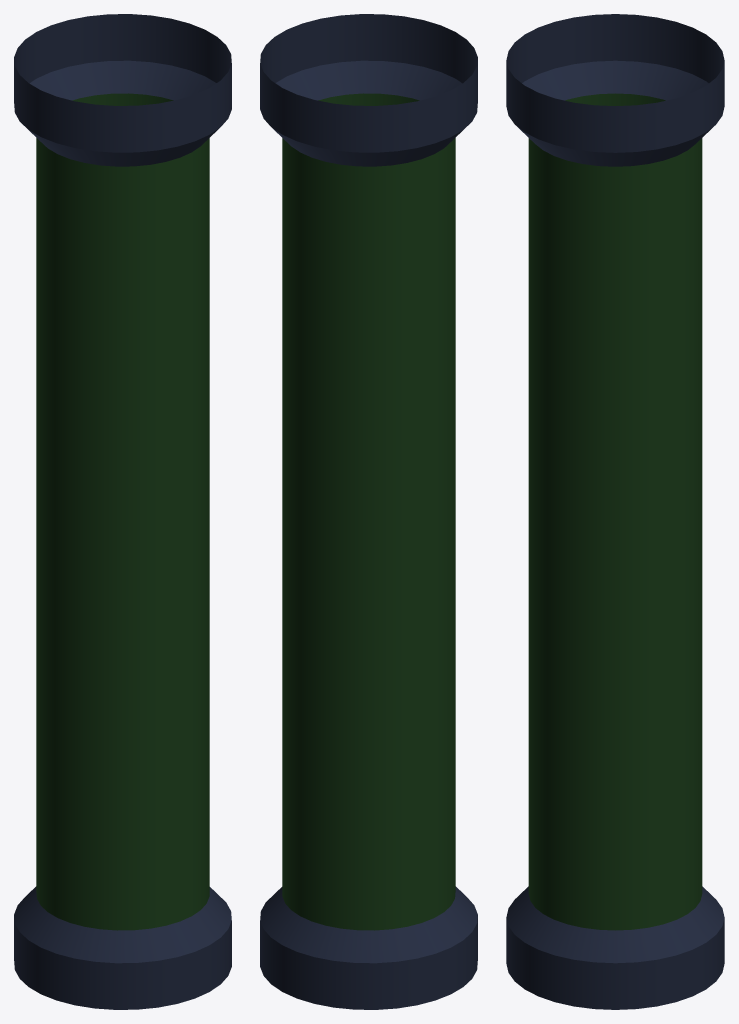
File: Column.fbx
3 renders of one model, left to right at view 1: azimuth 30°, elevation 25°; view 2: azimuth 150°, elevation 25°; view 3: azimuth 270°, elevation 25°, orthographic.
Parts seen in each view (by area): view 1: CylinderLow; view 2: CylinderLow; view 3: CylinderLow.
Boxes of the visible parts, x1,y1,x2,y2 form: CylinderLow: (14, 14, 231, 1009); CylinderLow: (260, 14, 477, 1009); CylinderLow: (506, 14, 724, 1009).
Size of the model in its own units: 121 by 555 by 121.
